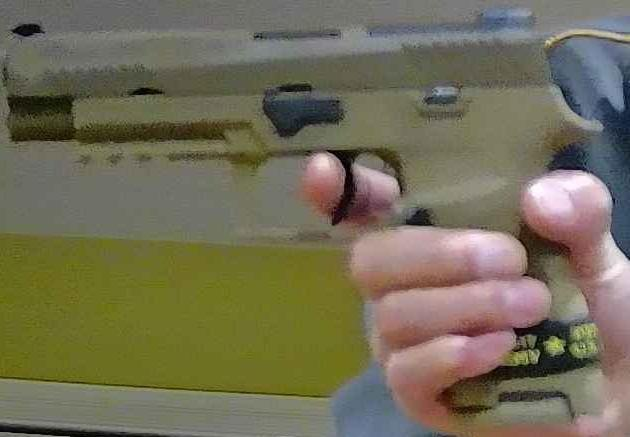gun: (1, 1, 630, 437)
